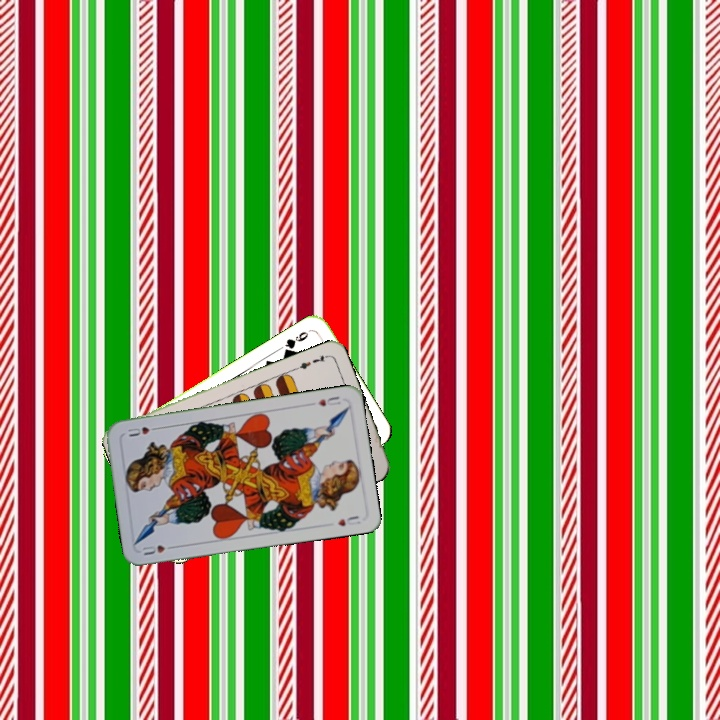E7: (292, 351, 331, 372)
G9: (280, 326, 314, 356)
HU: (138, 541, 178, 558), (314, 392, 343, 409)
